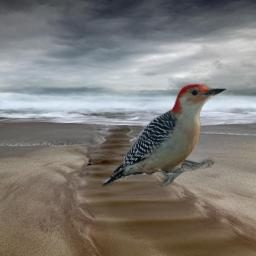Woodpecker: (102, 84, 229, 187)
